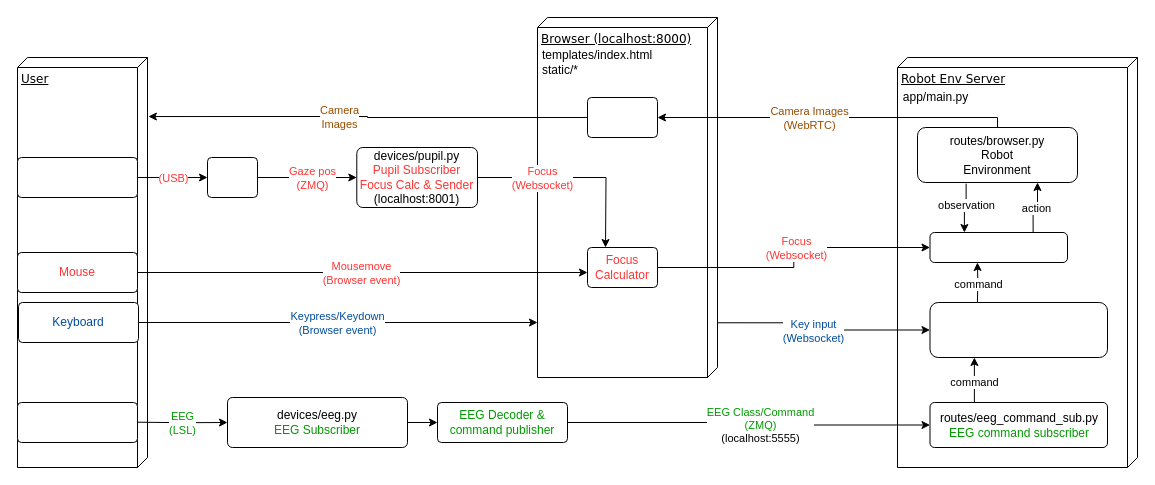
Some shapes in this 1155 by 485 pixel diagram are drawn without their labels. Here are the shapes that lost their labels. From the top down, the centre of each, then its label:
At (x=622, y=117): "Video elements".
At (x=77, y=177): "Pupil Core Eye Tracker".
At (x=232, y=177): "Pupil Capture".
At (x=998, y=247): "Policy".
At (x=1018, y=330): "AppState.update_command() Command Updator".
At (x=77, y=422): "EEG Device".
